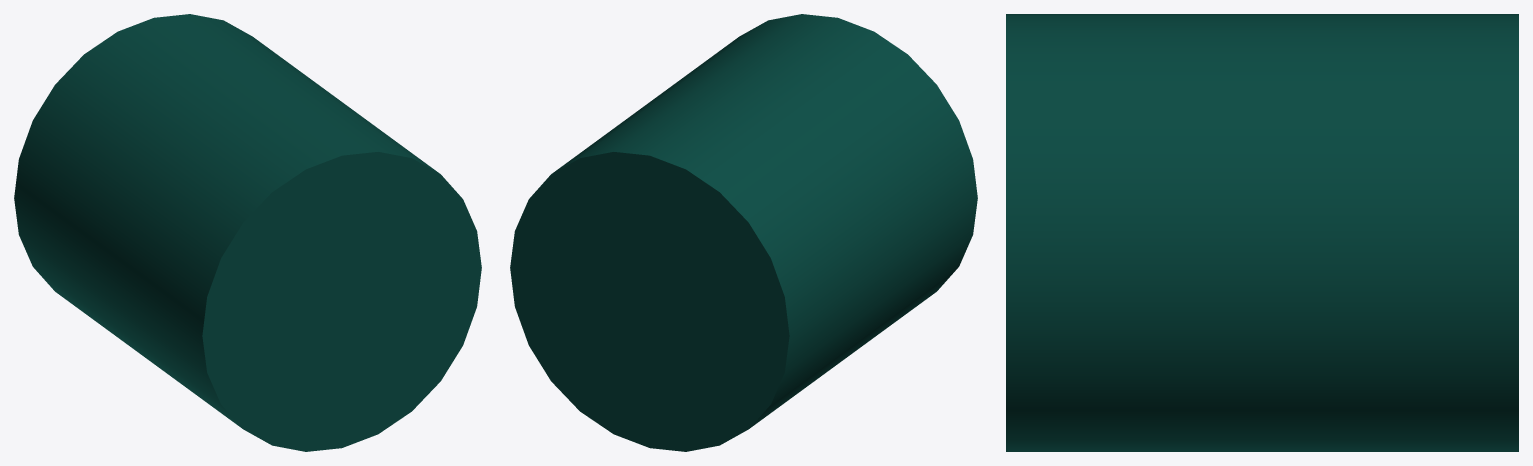
Rendered from Bin_001.obj.
3 views of the same model, side by side, from view 1: azimuth 30°, elevation 25°; view 2: azimuth 150°, elevation 25°; view 3: azimuth 270°, elevation 25° (orthographic). The views are drawn at different scales.
Parts seen in each view (by area): view 1: Bin_001_Cesto_Mesh; view 2: Bin_001_Cesto_Mesh; view 3: Bin_001_Cesto_Mesh.
Boxes of the visible parts, x1=… form: Bin_001_Cesto_Mesh: x1=14, y1=14, x2=481, y2=451; Bin_001_Cesto_Mesh: x1=510, y1=14, x2=977, y2=451; Bin_001_Cesto_Mesh: x1=1006, y1=14, x2=1518, y2=451.
Size of the model in its own units: 0.24 by 0.24 by 0.28.
